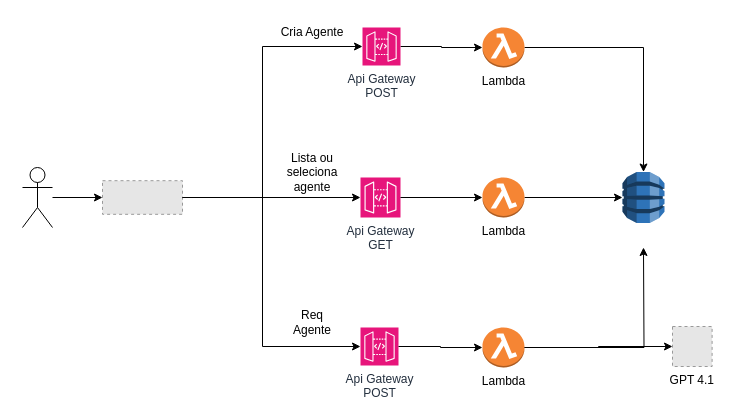
Image size: 733x418. Some labels were removed from this diagram. Grey dashed boxes stand in for pictures. The shapes that lost their labels are listed below. From the top down, each one's box as (x1, y1, x2, y2) in pixels, then its label:
(22, 166, 52, 228): Usuário
(622, 171, 664, 223): DynamoDB
